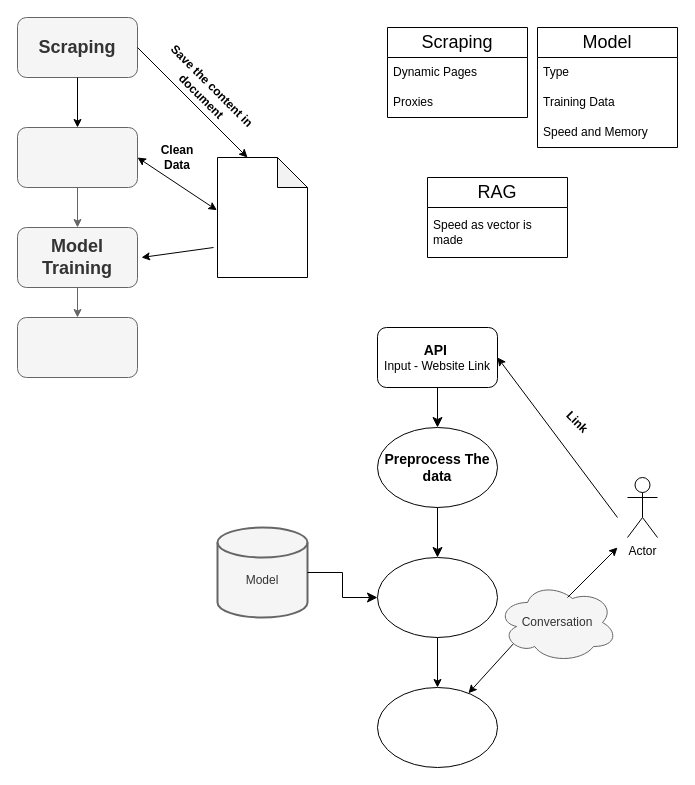
The diagram is 695 pixels wide and 785 high, and some of its shapes have lost their labels. The shapes that lost their labels are listed below. From the top down, each one's centre as x and y in pixels, then its label:
At point 77,157: "Pre processing".
At point 262,217: "Training Data Input-Output".
At point 77,347: "API / RAG".
At point 437,597: "Run Model".
At point 437,727: "Create the RAG Model".
